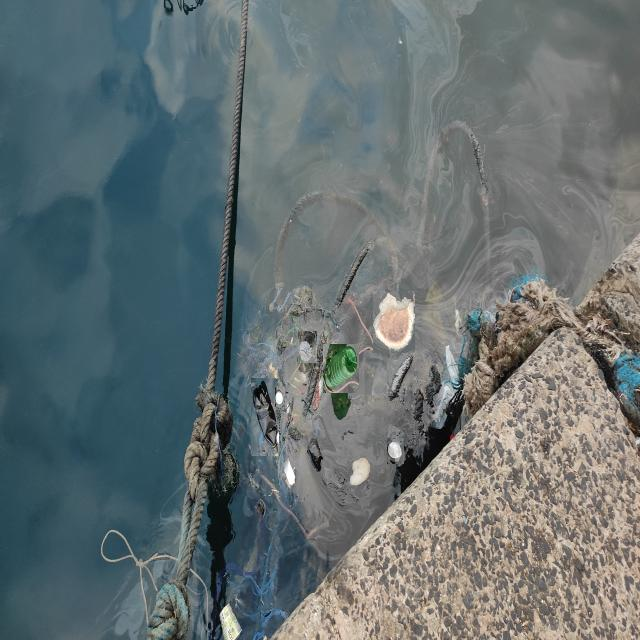Bottle cap: (276, 387, 286, 407)
Plastic bottle: (251, 378, 279, 456), (324, 344, 359, 393), (298, 331, 317, 363)
Plastic cup: (218, 599, 242, 640), (387, 438, 404, 464)
Undefined trash: (373, 292, 415, 354), (347, 455, 370, 489)
